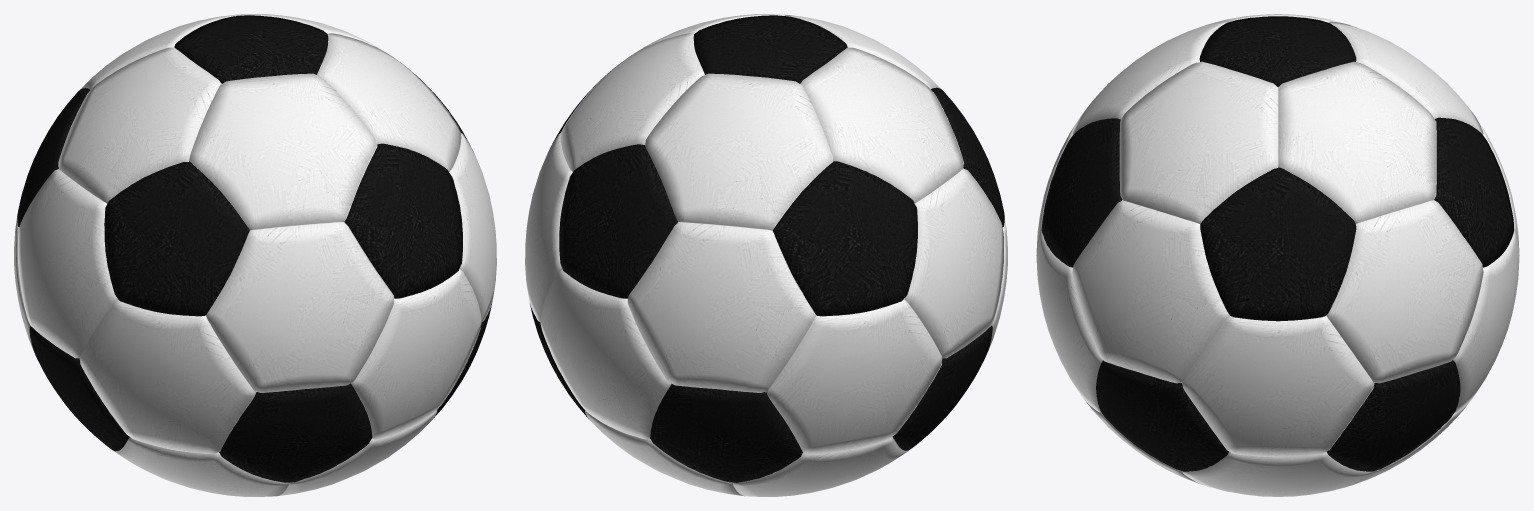
Rendered from soccer-ball.glb.
3 renders of one model, left to right at view 1: azimuth 30°, elevation 25°; view 2: azimuth 150°, elevation 25°; view 3: azimuth 270°, elevation 25°, orthographic.
Parts seen in each view (by area): view 1: Icosphere_Icosphere.006; view 2: Icosphere_Icosphere.006; view 3: Icosphere_Icosphere.006.
Boxes of the visible parts, x1,y1,x2,y2 form: Icosphere_Icosphere.006: (14,14,496,496); Icosphere_Icosphere.006: (525,14,1007,496); Icosphere_Icosphere.006: (1036,14,1519,496).
Size of the model in its own units: 1.47 by 1.47 by 1.47.
2 materials, 2 textured.
